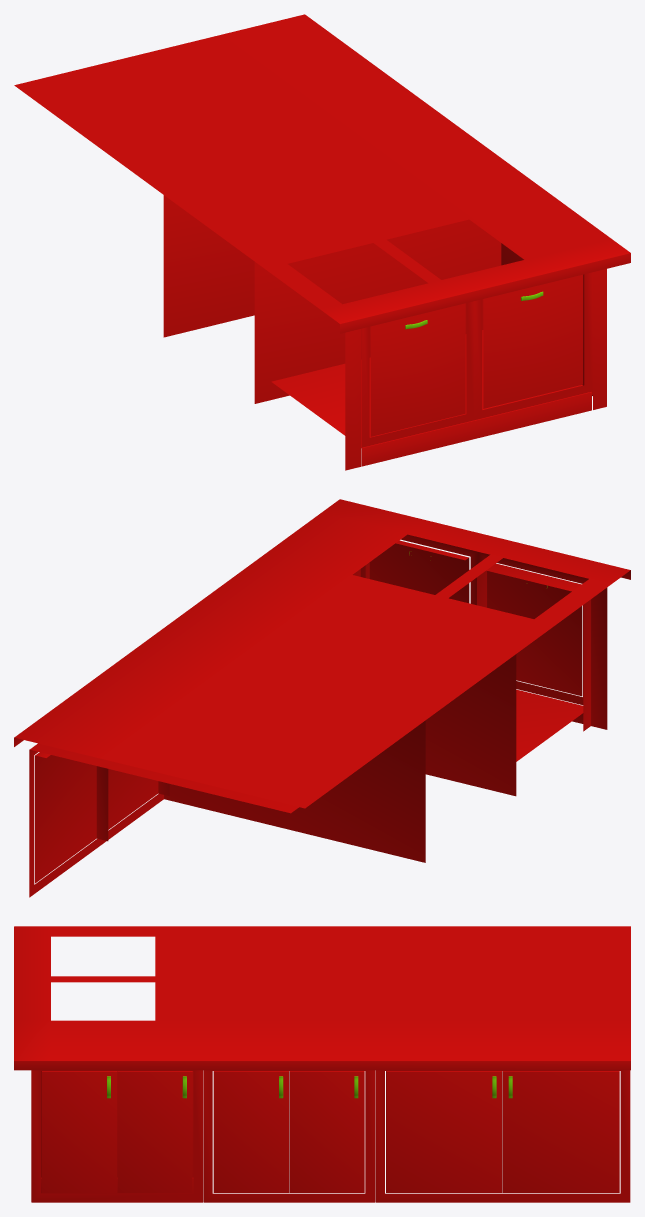
The model's file is countertop_2.fbx.
3 renders of one model, top to bottom at view 1: azimuth 30°, elevation 25°; view 2: azimuth 150°, elevation 25°; view 3: azimuth 270°, elevation 25°, orthographic. The views are drawn at different scales.
Visible parts, largest first — view 1: countertop_2; view 2: countertop_2; view 3: countertop_2.
Part boxes in pixels (x1,y1,x2,y2): countertop_2: (14, 14, 630, 470); countertop_2: (14, 499, 630, 897); countertop_2: (14, 926, 630, 1202).
Size of the model in its own units: 21.75 by 42.19 by 11.2.
